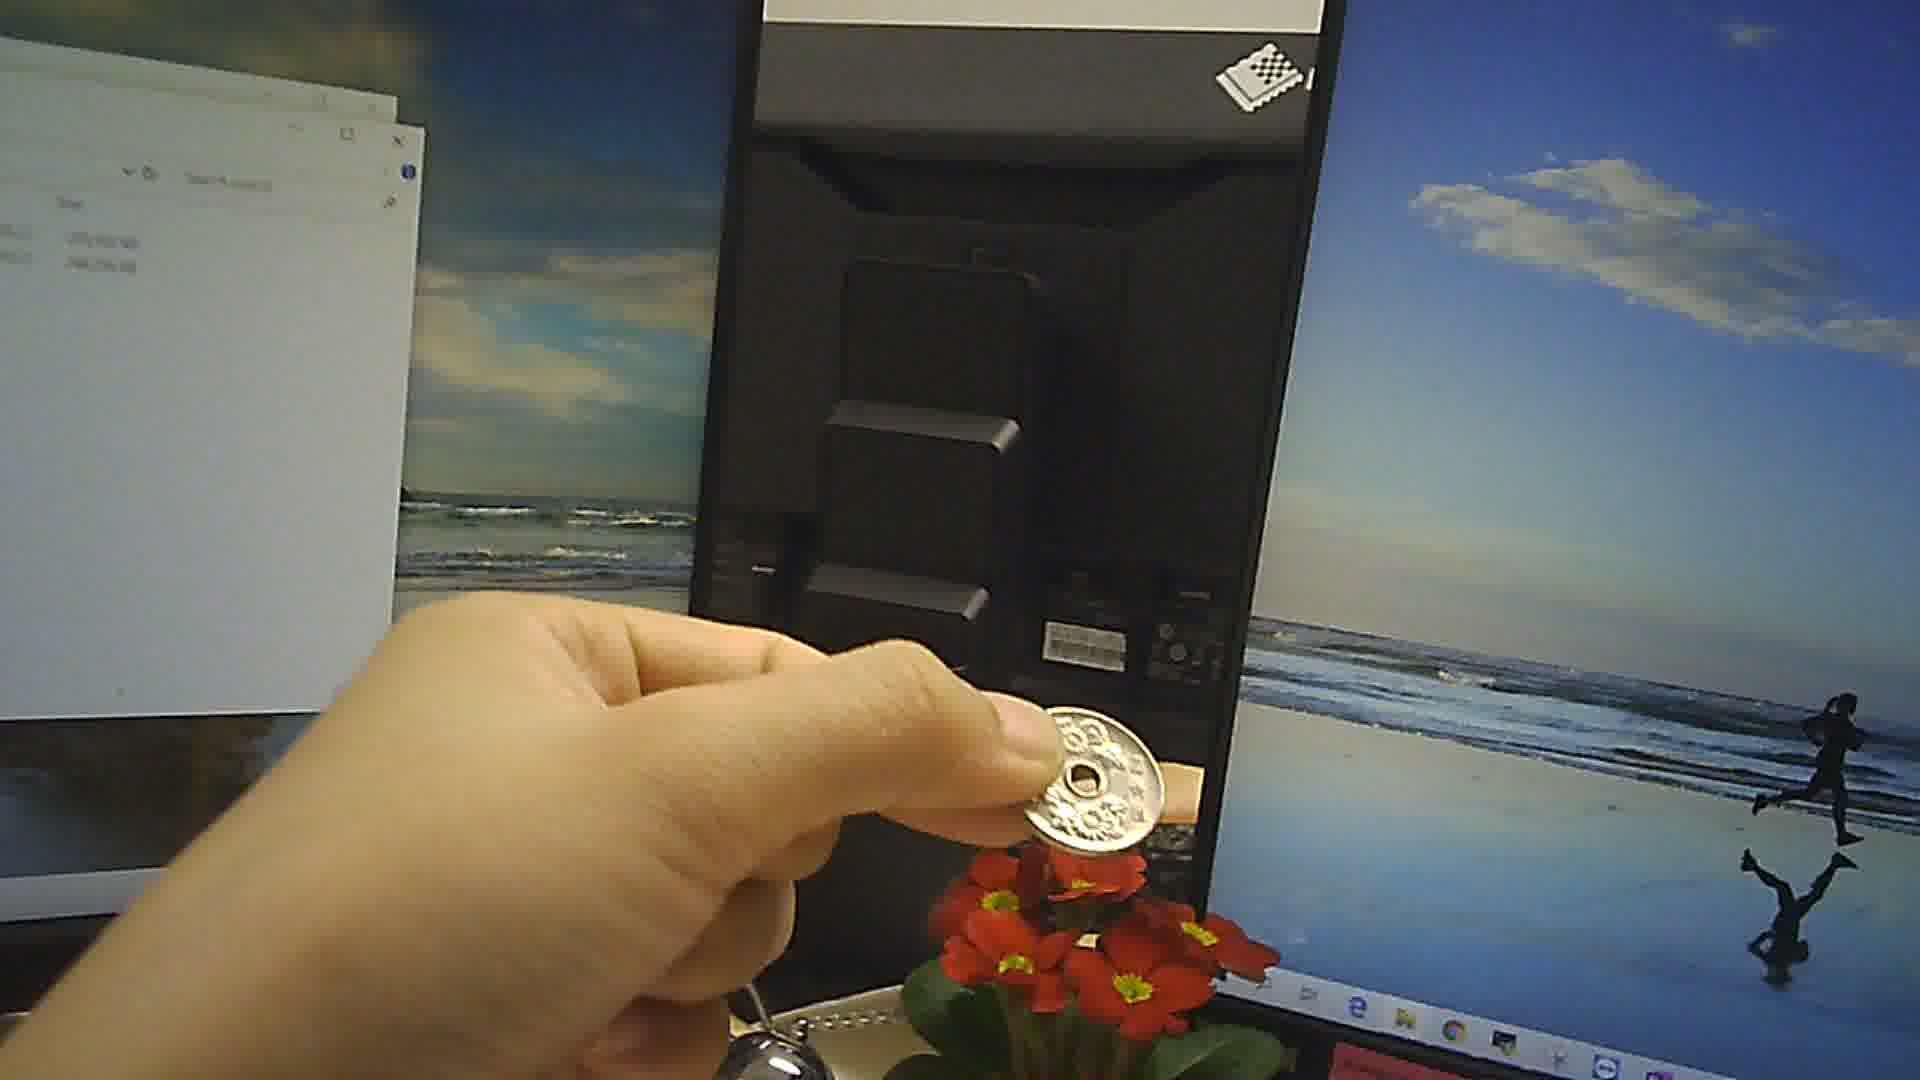50 Yen: (1004, 696, 1172, 856)
